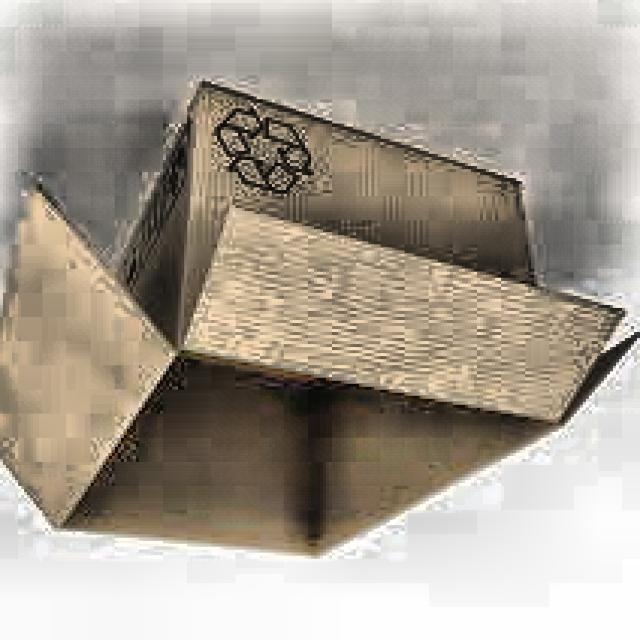cardboard: (0, 81, 640, 564)
